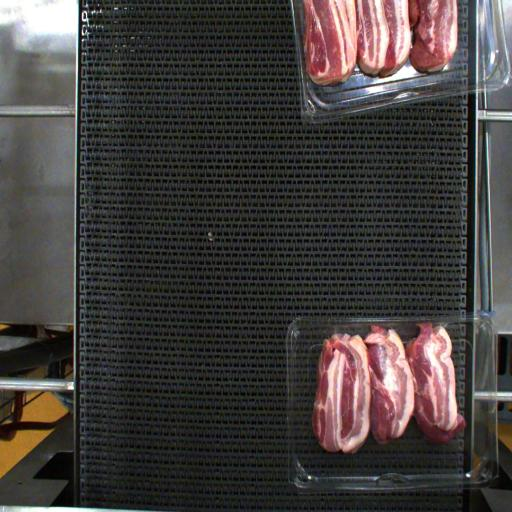packaging-error: (426, 312, 458, 338)
